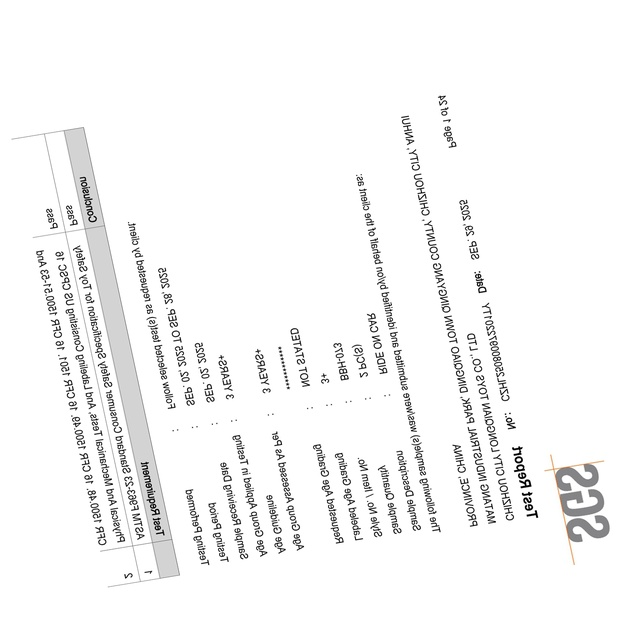sgs: (554, 463, 610, 543)
